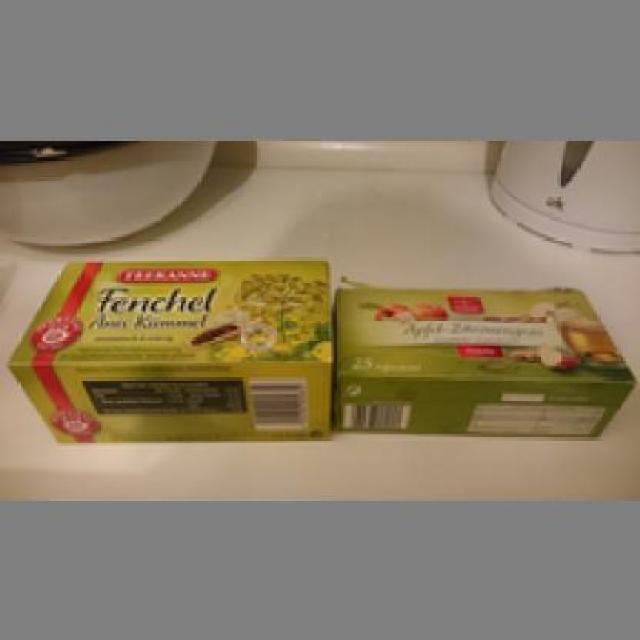Tea: (3, 254, 334, 446), (332, 283, 632, 440)
